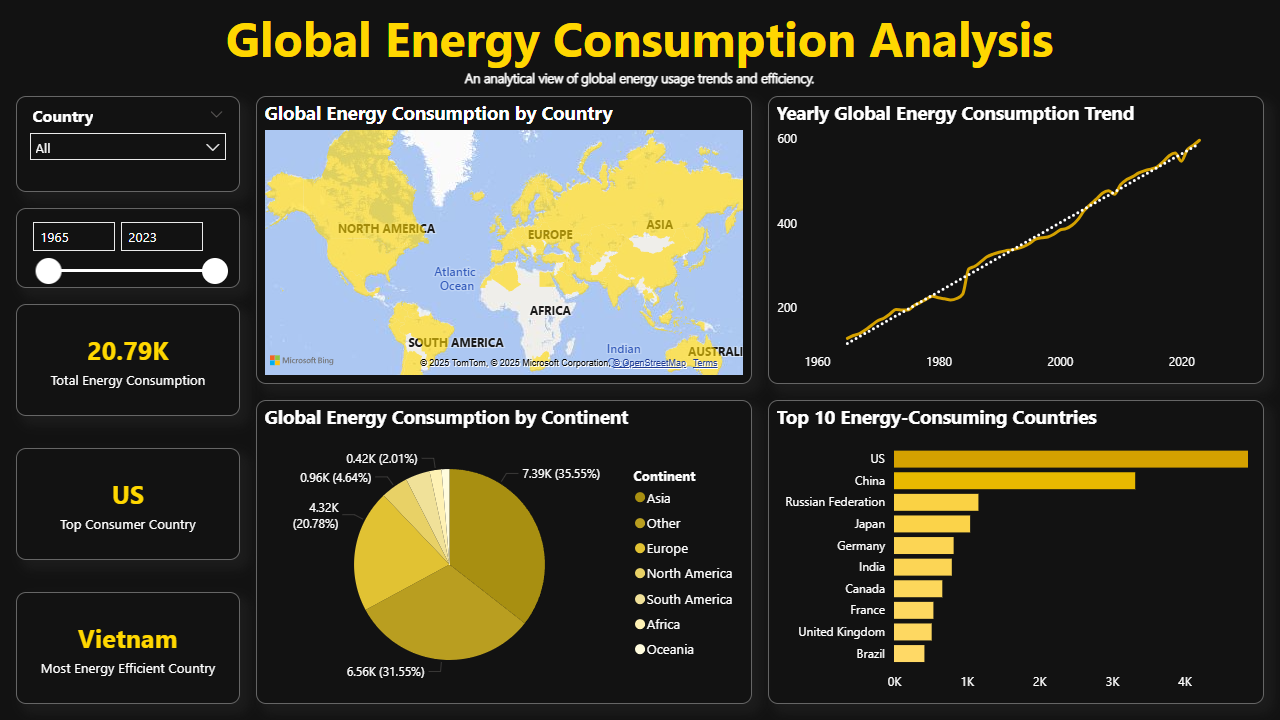

What the dashboard file says about the page in this screenshot:
{"tool":"powerbi","page":{"name":"World Energy Consumption","canvas":[1280,720],"ordinal":0},"visuals":[{"type":"slicer","fields":{"Values":["FilteredEnergyData.Year"]},"box":[224,48,224,96],"z":0},{"type":"map","title":"Global Energy Consumption by Country","fields":{"Category":["EnergyConsumption.Country"],"Size":["Avg(EnergyConsumption.Consumption)"]},"box":[0,120,496,288],"z":1000},{"type":"lineChart","title":"Yearly Global Energy Consumption Trend","fields":{"Category":["FilteredEnergyData.Year"],"Y":["Sum(FilteredEnergyData.Consumption)"]},"box":[0,408,496,312],"z":2000},{"type":"clusteredBarChart","title":"Top 10 Energy-Consuming Countries","fields":{"Category":["FilteredEnergyData.Country"],"Y":["Sum(FilteredEnergyData.Consumption)"]},"box":[496,408,496,312],"z":3000},{"type":"slicer","fields":{"Values":["FilteredEnergyData.Country"]},"box":[0,48,240,64],"z":4000},{"type":"pieChart","title":"Global Energy Consumption by Continent","fields":{"Y":["Sum(FilteredEnergyData.Consumption)"],"Category":["FilteredEnergyData.Continent"]},"box":[496,120,496,288],"z":5000},{"type":"actionButton","box":[0,0,100,40],"z":6000},{"type":"card","fields":{"Values":["FilteredEnergyData.TopConsumerCountry"]},"box":[1000,192,184,160],"z":7000},{"type":"card","fields":{"Values":["FilteredEnergyData.TotalEnergyConsumption"]},"box":[1000,32,184,160],"z":8000},{"type":"card","fields":{"Values":["FilteredEnergyData.FastestGrowingCountry"]},"box":[1000,352,184,160],"z":9000},{"type":"card","fields":{"Values":["FilteredEnergyData.LargestDeclineCountry"]},"box":[1000,496,184,160],"z":10000},{"type":"textbox","box":[224,8,840,80],"z":11000}]}

Visuals, with their boxes in screenshot pixels (x1, y1, x2, y2), scaled from the page's 1280x720 canvas onto the 1280x720 screenshot:
slicer - FilteredEnergyData.Year: l=224, t=48, r=448, b=144
"Global Energy Consumption by Country" map: l=0, t=120, r=496, b=408
"Yearly Global Energy Consumption Trend" lineChart: l=0, t=408, r=496, b=719
"Top 10 Energy-Consuming Countries" clusteredBarChart: l=496, t=408, r=992, b=719
slicer - FilteredEnergyData.Country: l=0, t=48, r=240, b=112
"Global Energy Consumption by Continent" pieChart: l=496, t=120, r=992, b=408
actionButton: l=0, t=0, r=100, b=40
card - FilteredEnergyData.TopConsumerCountry: l=1000, t=192, r=1184, b=352
card - FilteredEnergyData.TotalEnergyConsumption: l=1000, t=32, r=1184, b=192
card - FilteredEnergyData.FastestGrowingCountry: l=1000, t=352, r=1184, b=512
card - FilteredEnergyData.LargestDeclineCountry: l=1000, t=496, r=1184, b=656
textbox: l=224, t=8, r=1064, b=88
